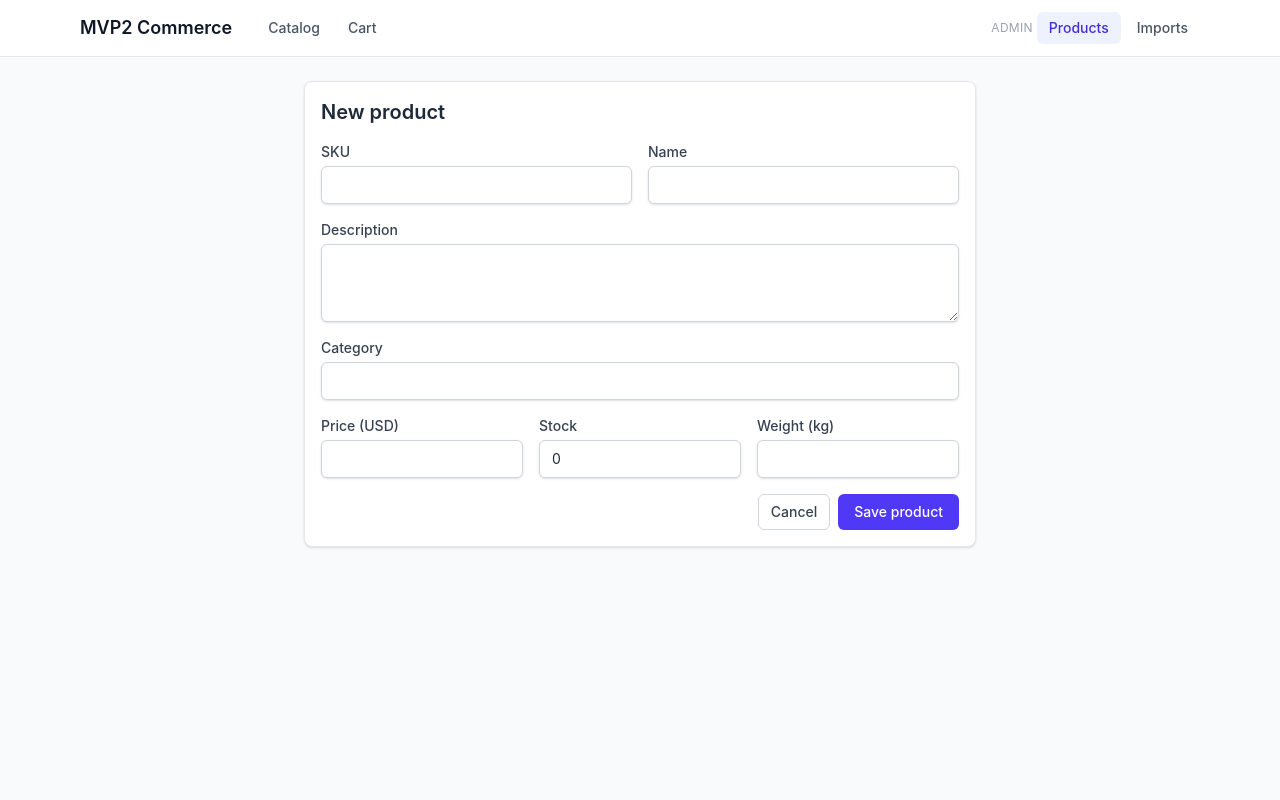
Test: product form › shows the errors returned by the server next to each field
Type "RS-001" into the field labelled "SKU". click: (476,185)
box: [321,166,632,204]
Type "Running Shoes" into the field labelled "Name". click: (804,185)
box: [648,166,959,204]
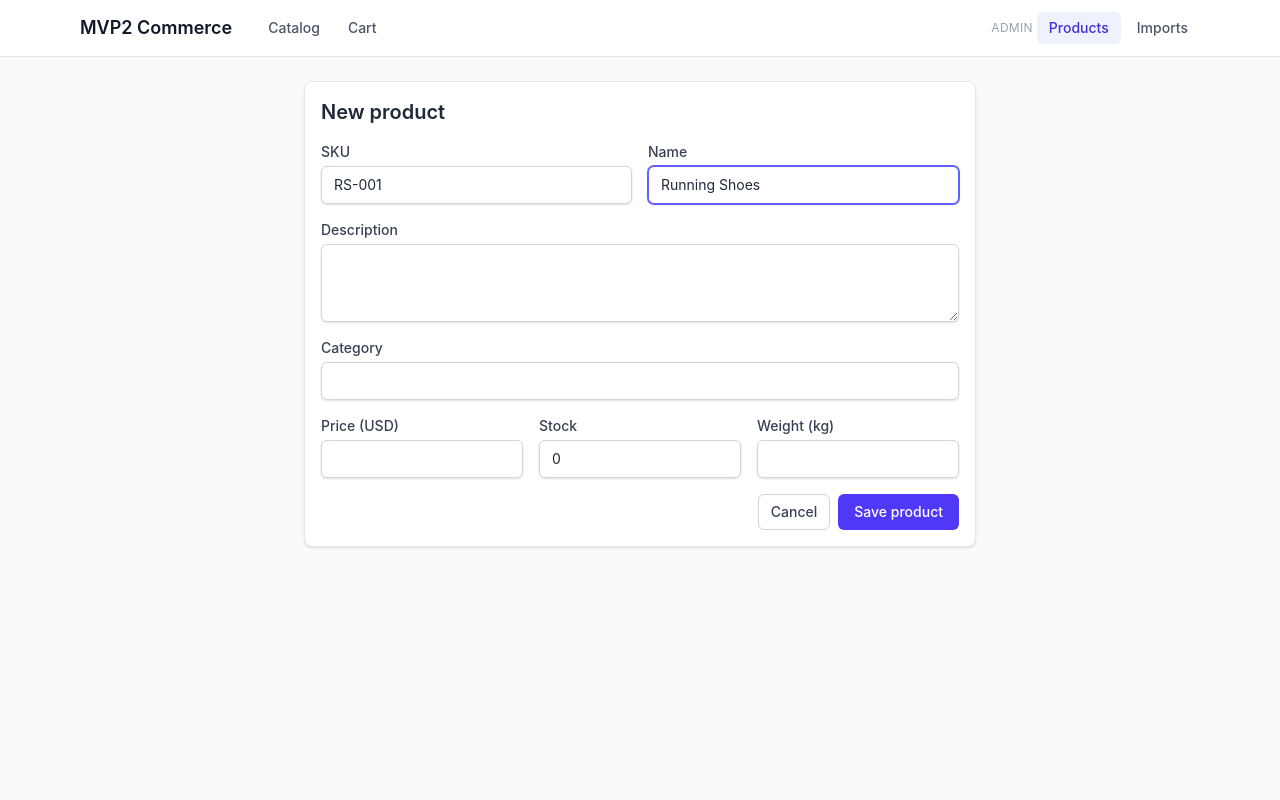
Type "Footwear" into the field labelled "Category". click: (640,381)
box: [321,362,959,400]
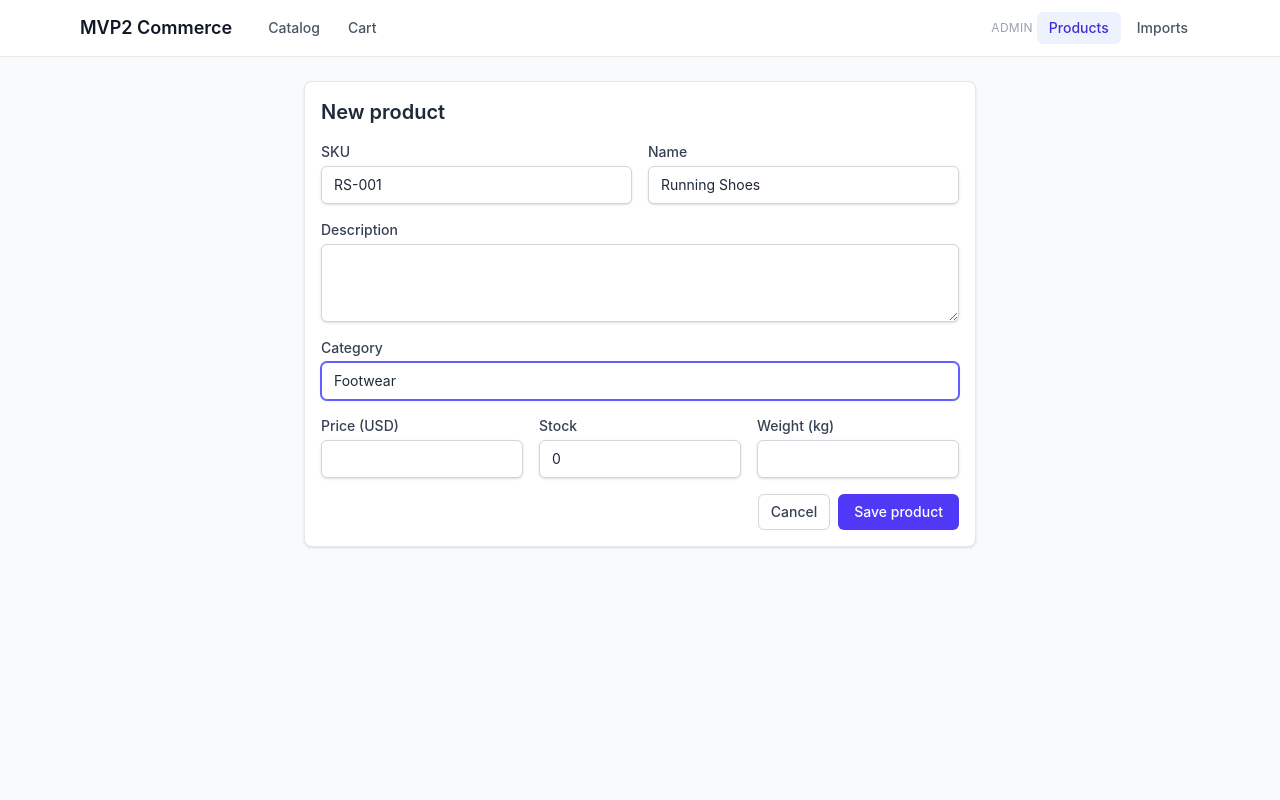
Type "89.99" into the field labelled "Price (USD)". click: (422,459)
box: [321,440,523,478]
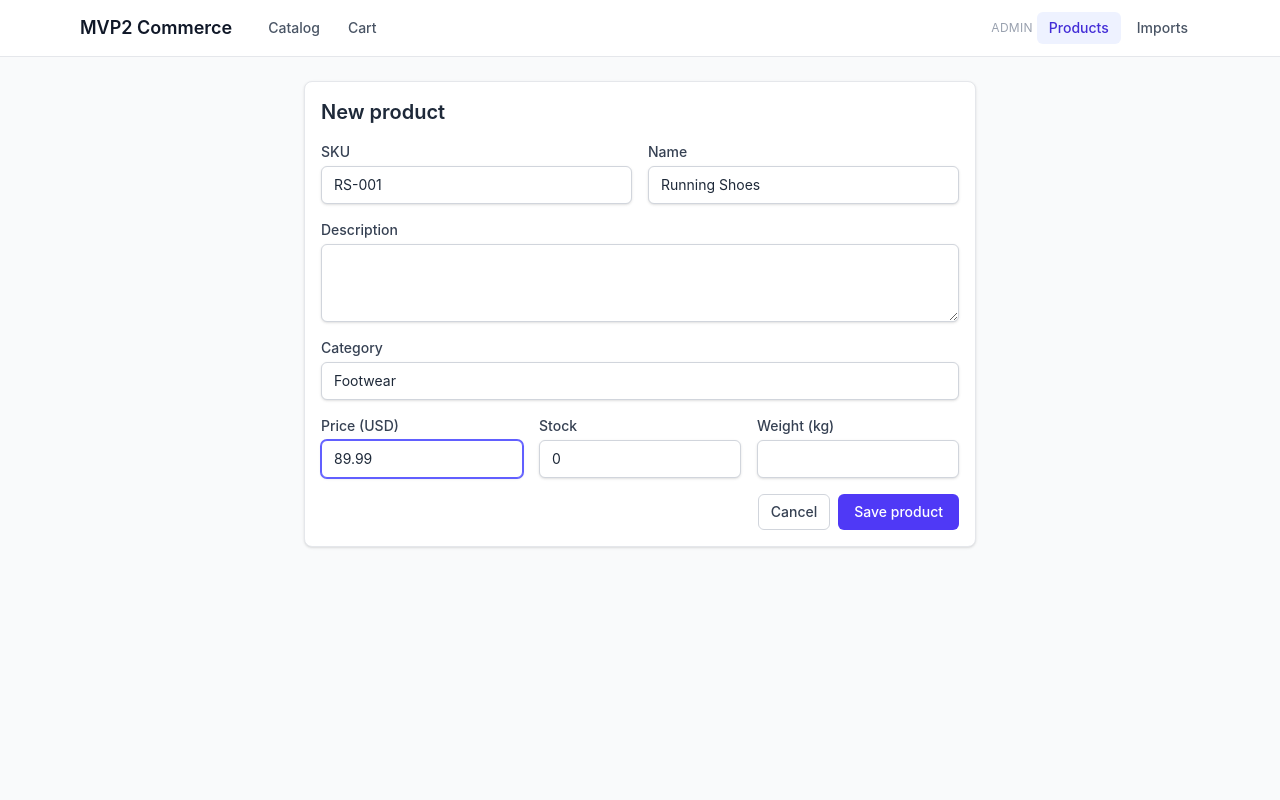
Replace the text in the field labelled "Stock" with "10". click: (640,459)
box: [539,440,741,478]
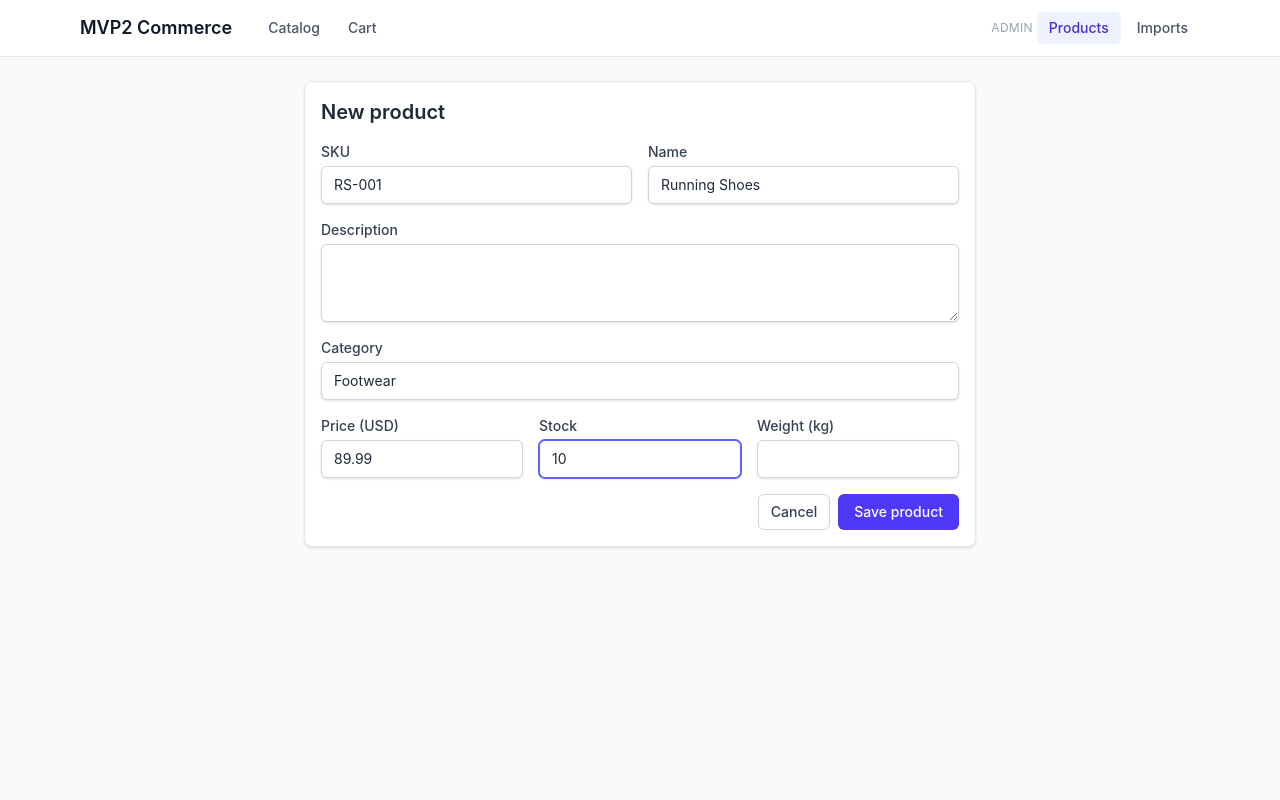
Type "0.35" into the field labelled "Weight (kg)". click: (858,459)
box: [757,440,959,478]
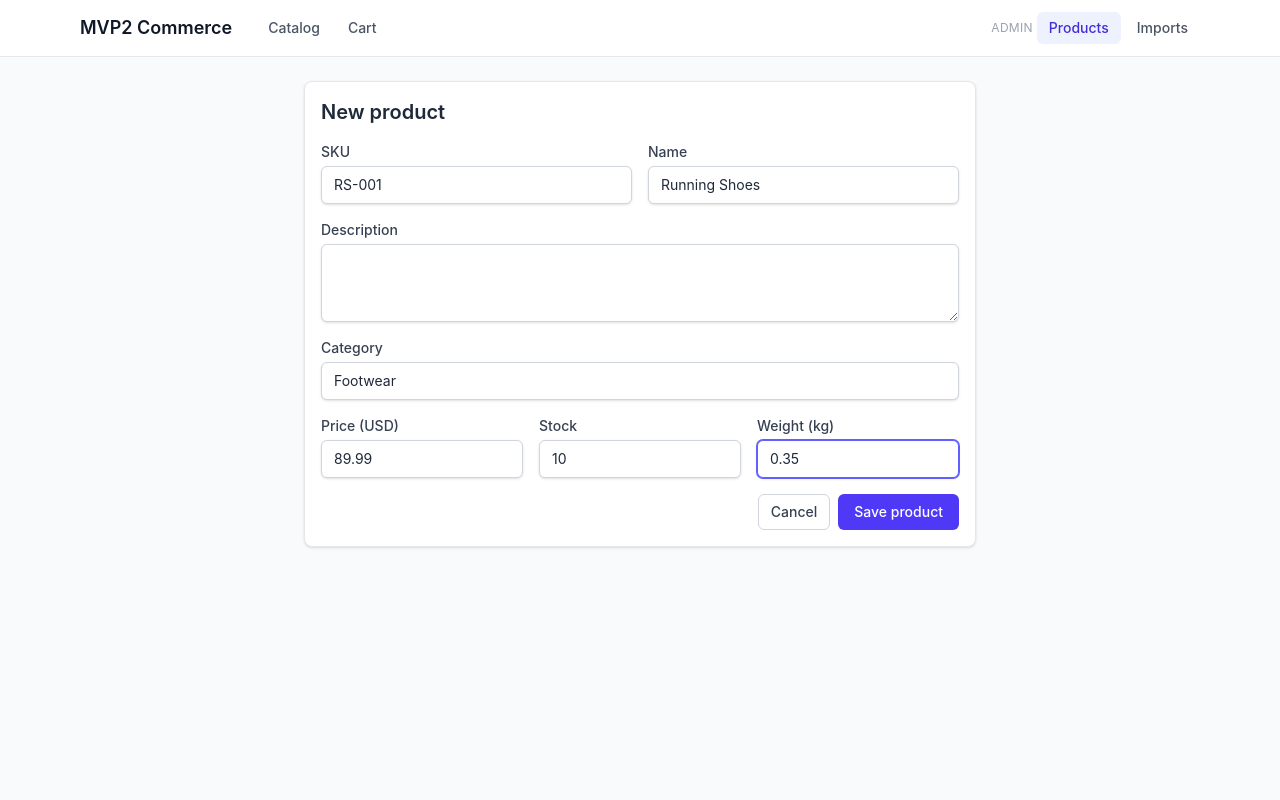
Click the button "Save product". click: (899,512)
box: [838,494,959,530]
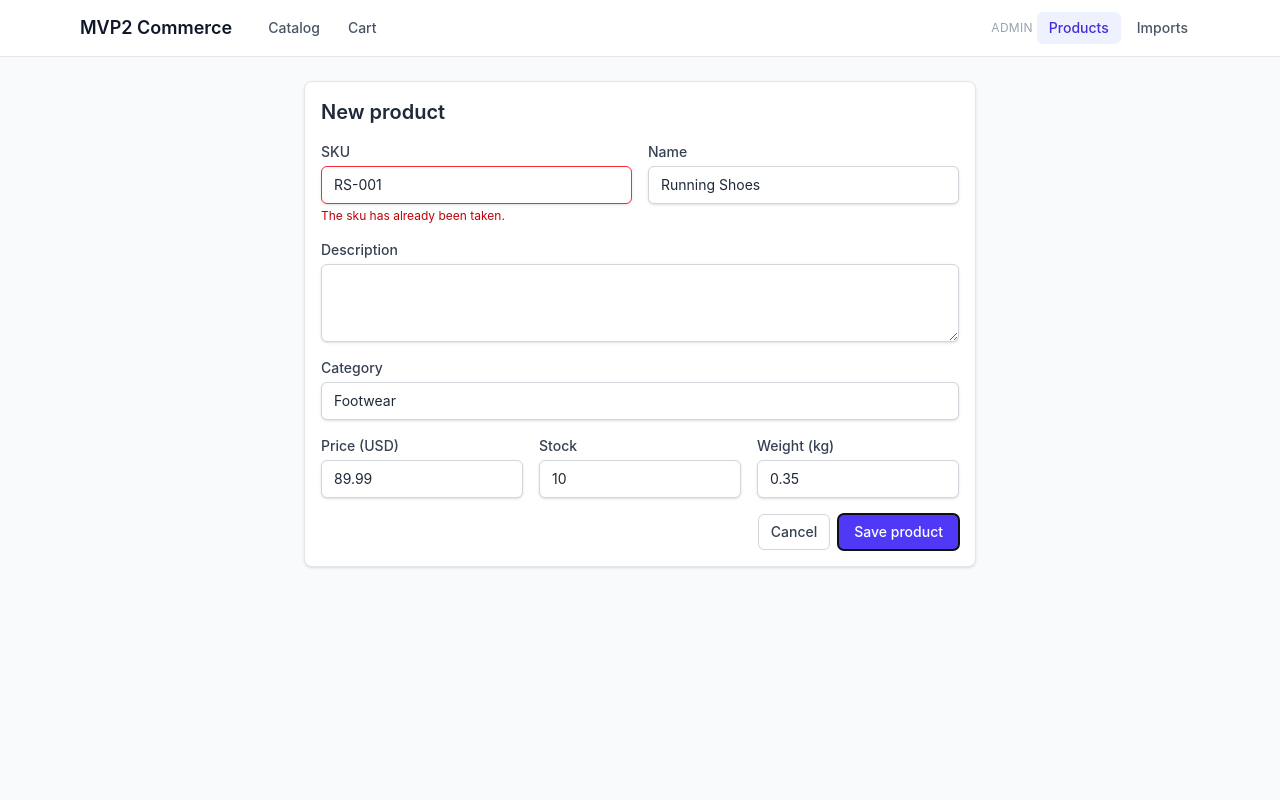
Now the text "The sku has already been taken." is shown, box [321,208,505,223]
